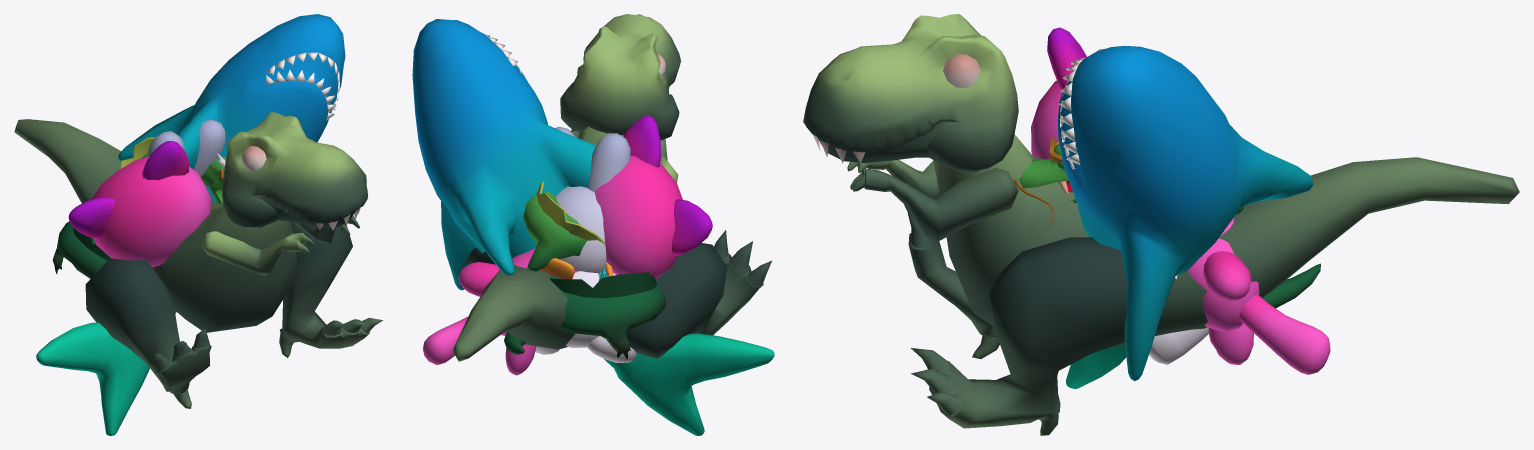
The model's file is ObbyGame_Characters_pets_.fbx.
The picture shows the model from 3 angles, left to right: view 1: azimuth 30°, elevation 25°; view 2: azimuth 150°, elevation 25°; view 3: azimuth 270°, elevation 25°; orthographic projection. The views are drawn at different scales.
Parts seen in each view (by area): view 1: ObbyGame_Characters_pet_000, ObbyGame_Characters_pet_002, ObbyGame_Characters_pet_001, ObbyGame_Characters_pet_005, ObbyGame_Characters_pet_004; view 2: ObbyGame_Characters_pet_002, ObbyGame_Characters_pet_000, ObbyGame_Characters_pet_001, ObbyGame_Characters_pet_005, ObbyGame_Characters_pet_004, ObbyGame_Characters_pet_003; view 3: ObbyGame_Characters_pet_000, ObbyGame_Characters_pet_002, ObbyGame_Characters_pet_001, ObbyGame_Characters_pet_005, ObbyGame_Characters_pet_004.
Boxes of the visible parts, box(x1,y1,x2,y2) form: ObbyGame_Characters_pet_000: box(14, 111, 382, 408); ObbyGame_Characters_pet_002: box(36, 14, 345, 435); ObbyGame_Characters_pet_001: box(68, 141, 211, 267); ObbyGame_Characters_pet_005: box(52, 137, 225, 278); ObbyGame_Characters_pet_004: box(146, 119, 225, 177); ObbyGame_Characters_pet_002: box(412, 19, 774, 435); ObbyGame_Characters_pet_000: box(452, 14, 772, 361); ObbyGame_Characters_pet_001: box(423, 115, 712, 375); ObbyGame_Characters_pet_005: box(504, 182, 665, 358); ObbyGame_Characters_pet_004: box(535, 126, 636, 362); ObbyGame_Characters_pet_003: box(540, 258, 613, 281); ObbyGame_Characters_pet_000: box(803, 14, 1519, 435); ObbyGame_Characters_pet_002: box(1057, 46, 1313, 388); ObbyGame_Characters_pet_001: box(1031, 27, 1330, 374); ObbyGame_Characters_pet_005: box(1014, 138, 1320, 308); ObbyGame_Characters_pet_004: box(1096, 48, 1208, 364).
Size of the model in its own units: 254 by 264 by 353.
2 materials, 2 textured.
